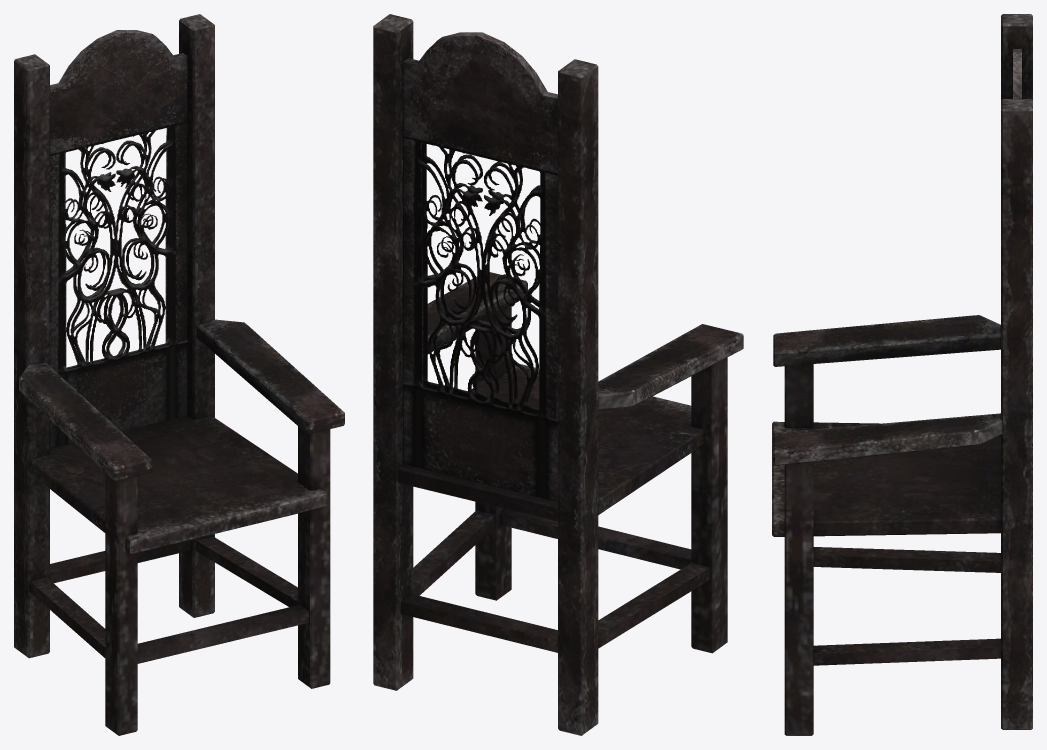
The model's file is chair_metal.dae.
3 renders of one model, left to right at view 1: azimuth 30°, elevation 25°; view 2: azimuth 150°, elevation 25°; view 3: azimuth 270°, elevation 25°, orthographic. The views are drawn at different scales.
Parts seen in each view (by area): view 1: polySurface14; view 2: polySurface14; view 3: polySurface14.
Part boxes in pixels (<box>): polySurface14: <box>14,14,344,735</box>; polySurface14: <box>373,14,743,735</box>; polySurface14: <box>772,14,1032,735</box>.
Size of the model in its own units: 0.3136 by 0.7753 by 0.2909.
